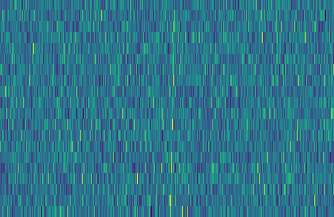signal: (165, 0, 178, 217)
